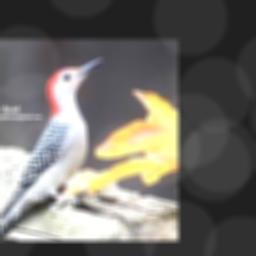Woodpecker: (0, 58, 103, 241)
